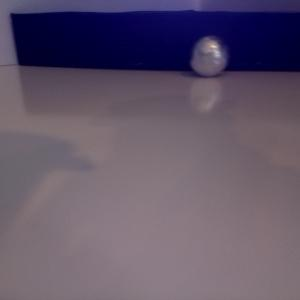zone: (10, 9, 300, 71)
